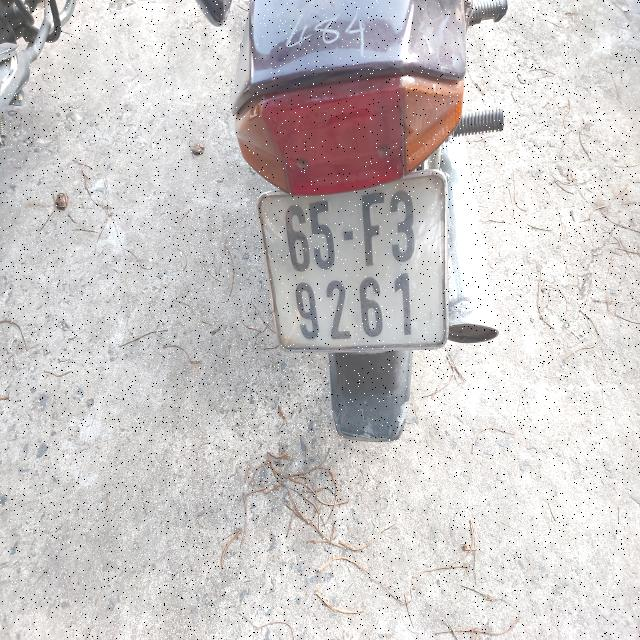1: (390, 273, 414, 337)
2: (326, 277, 350, 344)
3: (386, 188, 420, 264)
5: (310, 196, 338, 271)
6: (280, 204, 310, 272), (358, 274, 386, 338)
9: (295, 278, 322, 342)
F: (359, 189, 389, 268)
